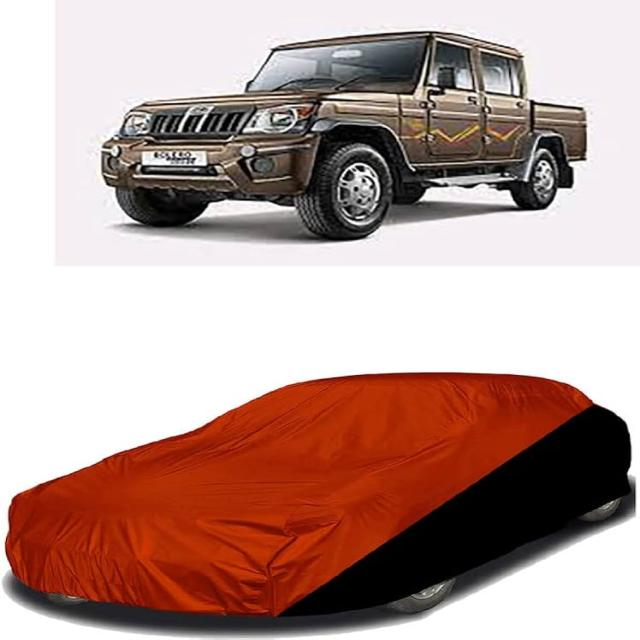light_vehicle: (95, 34, 589, 248)
